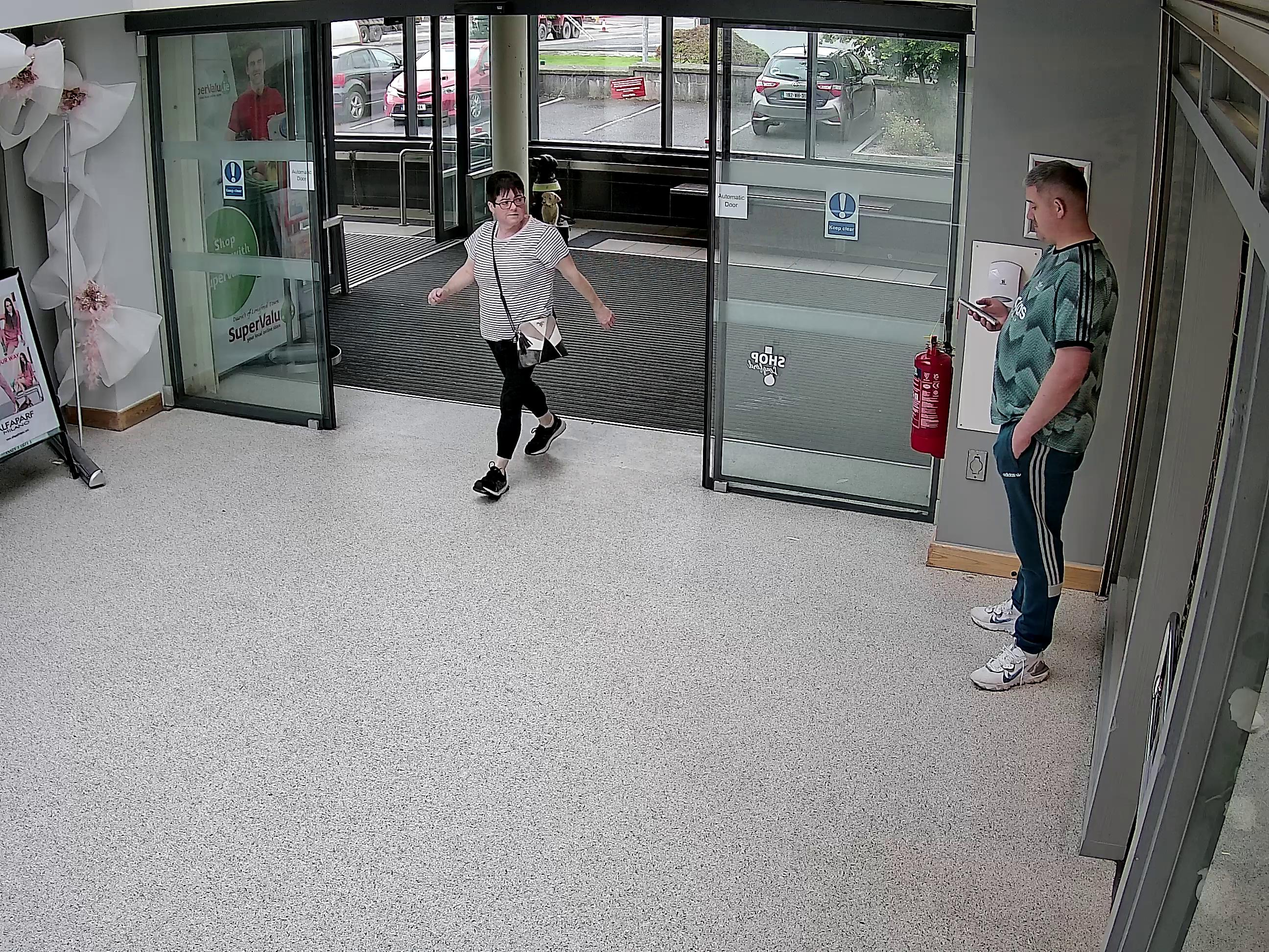backpack-or-handbag: (515, 315, 569, 367)
person: (426, 169, 616, 495)
person-with-backpack-handbag: (426, 168, 617, 496)
